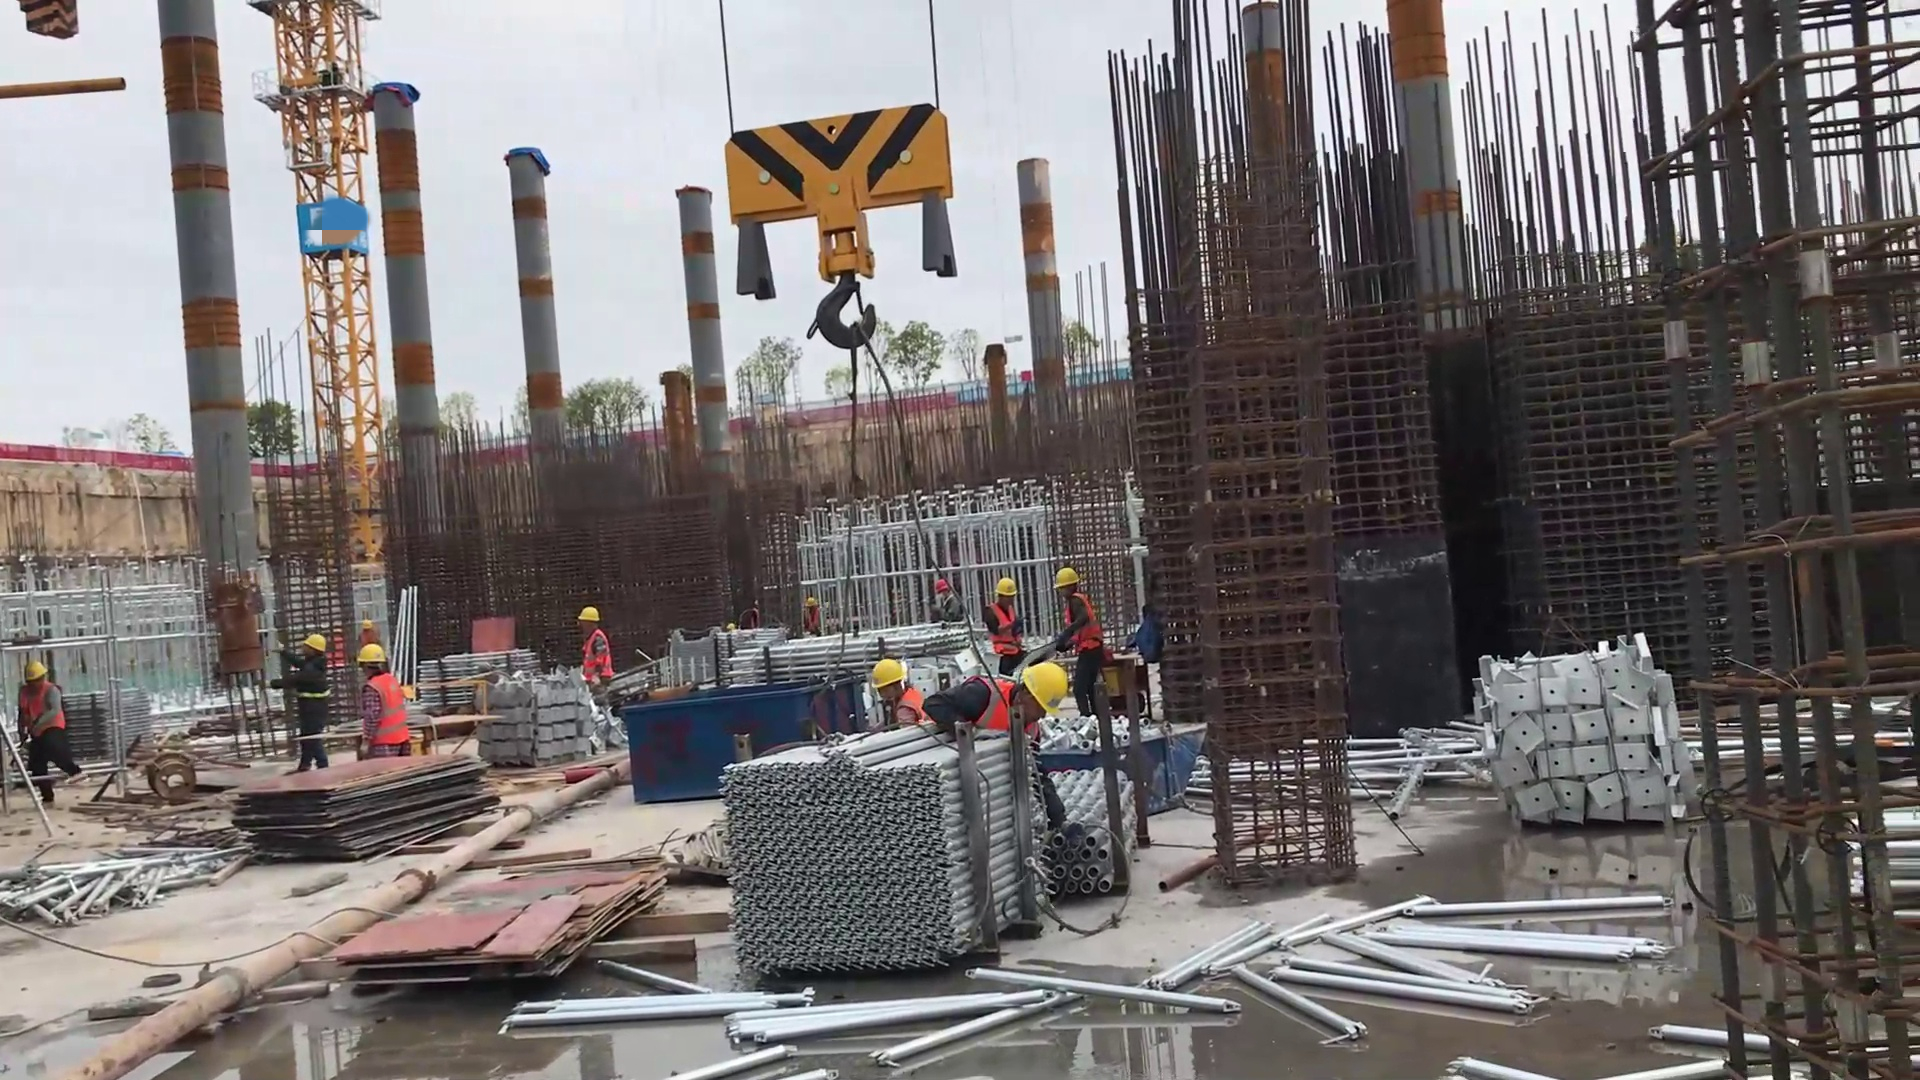helmet: (1020, 656, 1074, 711), (354, 635, 408, 679), (583, 600, 623, 638), (1052, 557, 1089, 596), (20, 653, 52, 687), (989, 569, 1021, 597), (308, 639, 333, 666)
person: (1051, 562, 1123, 716), (924, 656, 1065, 729), (350, 638, 419, 768), (262, 629, 325, 757), (977, 570, 1031, 660), (569, 607, 616, 695), (865, 664, 921, 718)
vest: (354, 669, 411, 757), (1059, 596, 1104, 651), (575, 626, 611, 695), (982, 601, 1021, 658)
